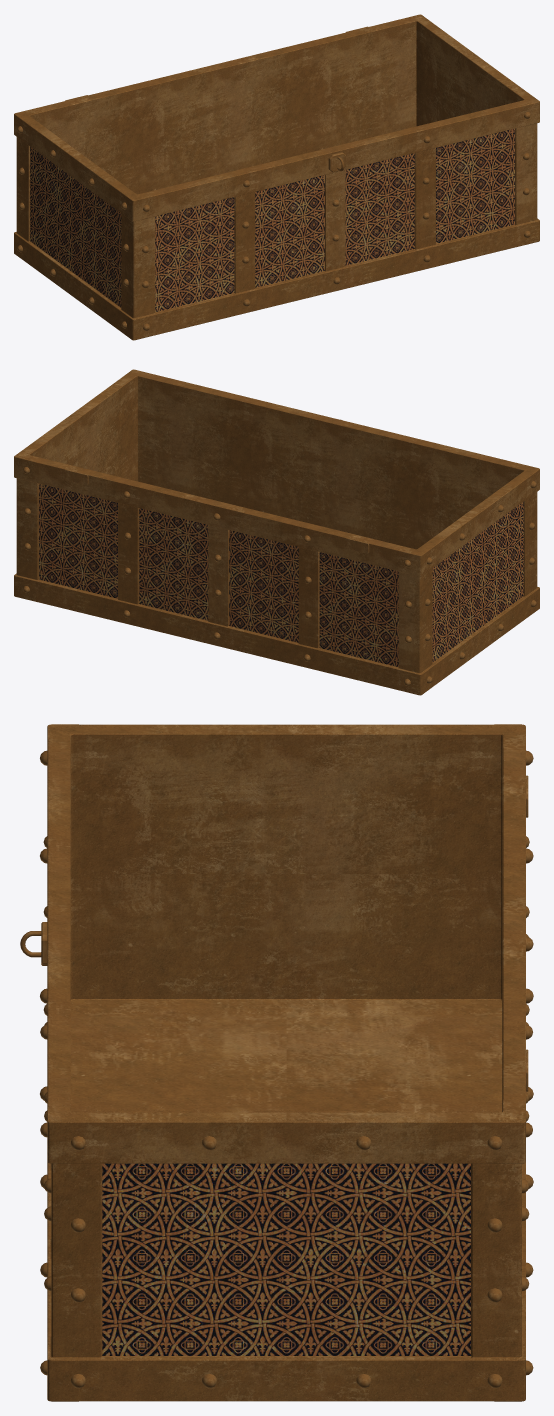
File: chestA.FBX
The picture shows the model from 3 angles, top to bottom: view 1: azimuth 30°, elevation 25°; view 2: azimuth 150°, elevation 25°; view 3: azimuth 270°, elevation 25°; orthographic projection. The views are drawn at different scales.
Parts seen in each view (by area): view 1: ChestBody; view 2: ChestBody; view 3: ChestBody.
Boxes of the visible parts, left/top/right/bottom form: ChestBody: left=14, top=14, right=539, bottom=340; ChestBody: left=14, top=369, right=539, bottom=695; ChestBody: left=20, top=724, right=533, bottom=1401.
Size of the model in its own units: 124 by 40 by 66.56.
2 materials, 2 textured.
